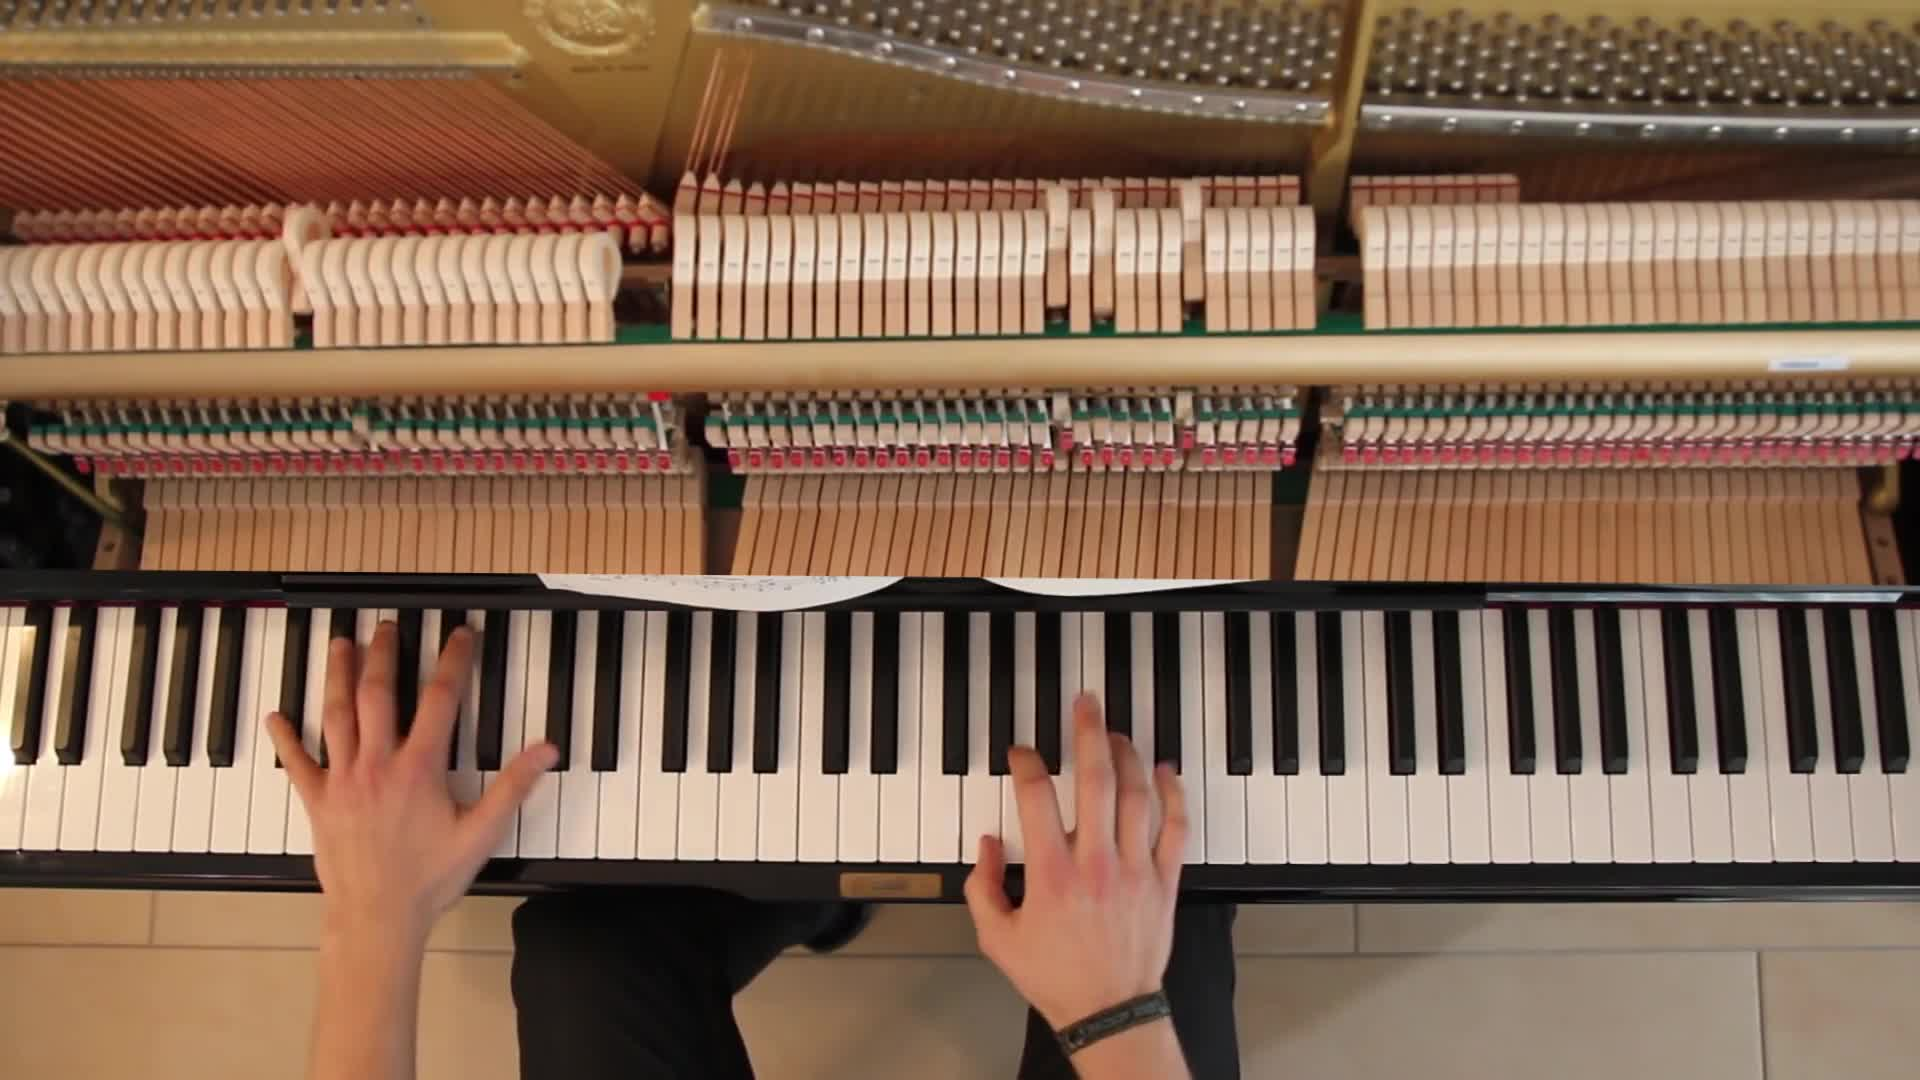left: (266, 615, 559, 920)
right: (959, 688, 1188, 1002)
